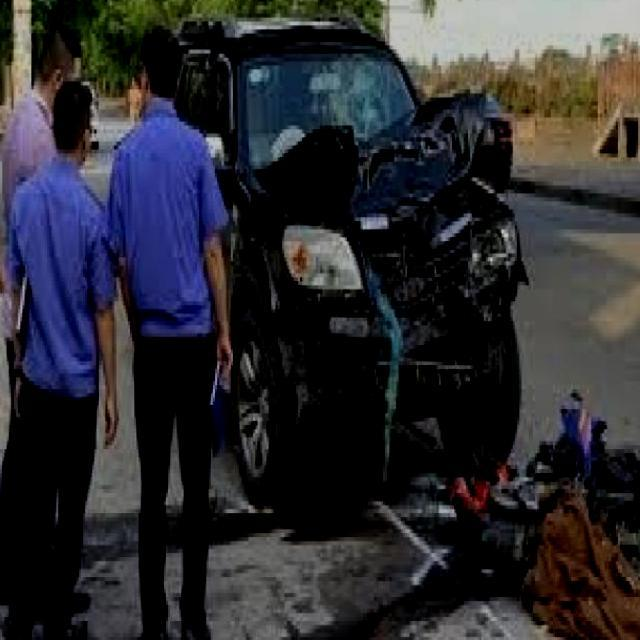accident: (218, 14, 527, 471), (445, 379, 640, 621)
